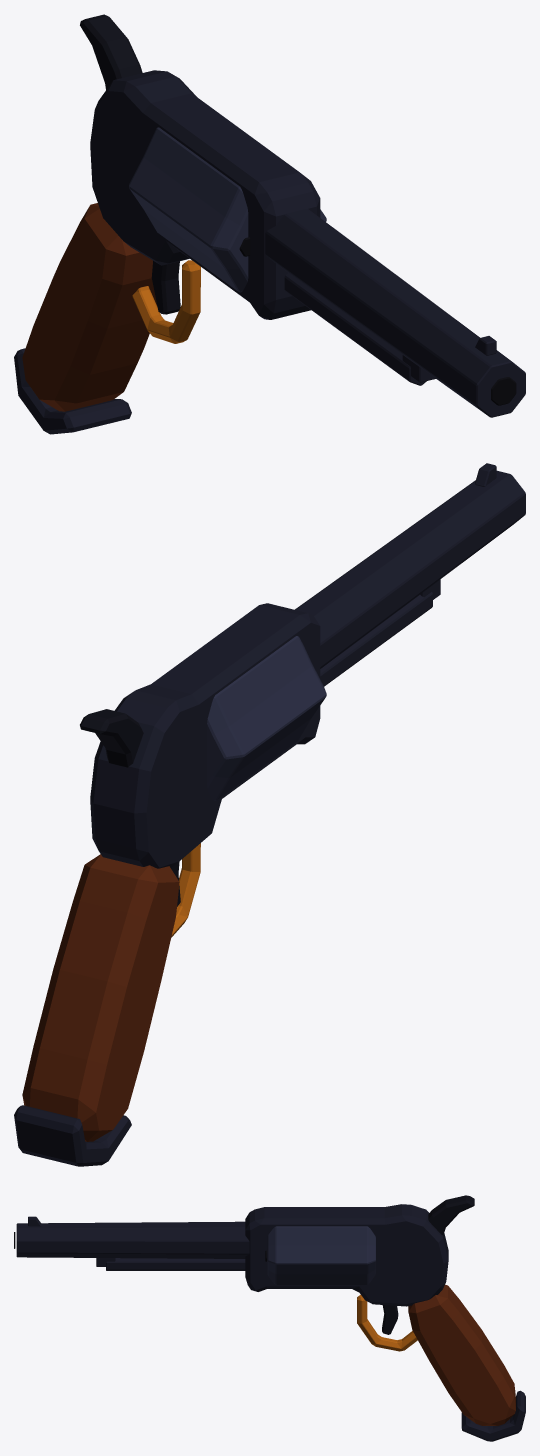
File: myw_revolver.obj
The picture shows the model from 3 angles, top to bottom: view 1: azimuth 30°, elevation 25°; view 2: azimuth 150°, elevation 25°; view 3: azimuth 270°, elevation 25°; orthographic projection. The views are drawn at different scales.
Parts seen in each view (by area): view 1: Frame, Barrel, Grip, Cylinder, Straps, Hammer, Trigger; view 2: Grip, Frame, Barrel, Cylinder, Straps, Hammer; view 3: Frame, Barrel, Grip, Cylinder, Straps, Hammer, Trigger.
Boxes of the visible parts, bbox=[...] form: Frame: bbox=[90, 70, 320, 319]; Barrel: bbox=[265, 208, 525, 417]; Grip: bbox=[22, 203, 157, 411]; Cylinder: bbox=[129, 127, 326, 292]; Straps: bbox=[14, 260, 200, 434]; Hammer: bbox=[80, 14, 142, 89]; Trigger: bbox=[151, 261, 180, 314]; Grip: bbox=[22, 854, 179, 1141]; Frame: bbox=[90, 603, 320, 868]; Barrel: bbox=[295, 463, 525, 686]; Cylinder: bbox=[207, 636, 326, 800]; Straps: bbox=[14, 843, 200, 1166]; Hammer: bbox=[80, 709, 143, 767]; Frame: bbox=[245, 1204, 448, 1306]; Barrel: bbox=[14, 1216, 249, 1270]; Grip: bbox=[408, 1284, 515, 1425]; Cylinder: bbox=[265, 1226, 375, 1284]; Straps: bbox=[357, 1294, 525, 1441]; Hammer: bbox=[428, 1195, 474, 1235]; Trigger: bbox=[382, 1305, 398, 1334].
Size of the model in its own units: 0.2669 by 0.9346 by 1.84.
